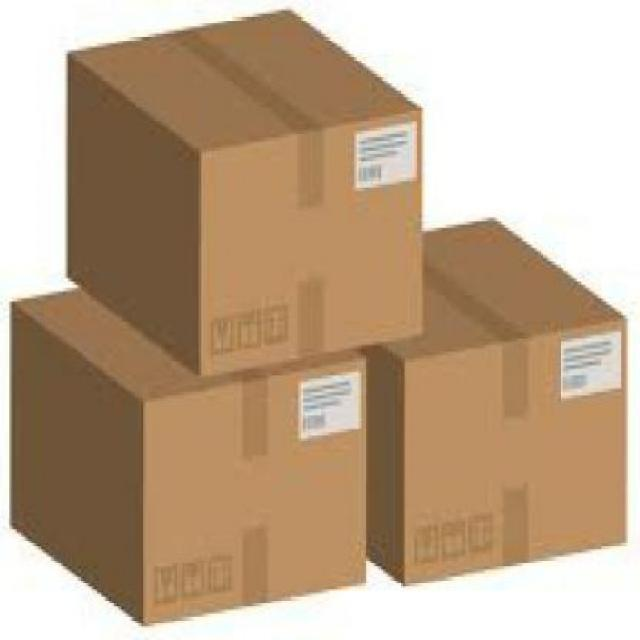box: (58, 13, 436, 379), (7, 287, 376, 624), (372, 204, 630, 593)
